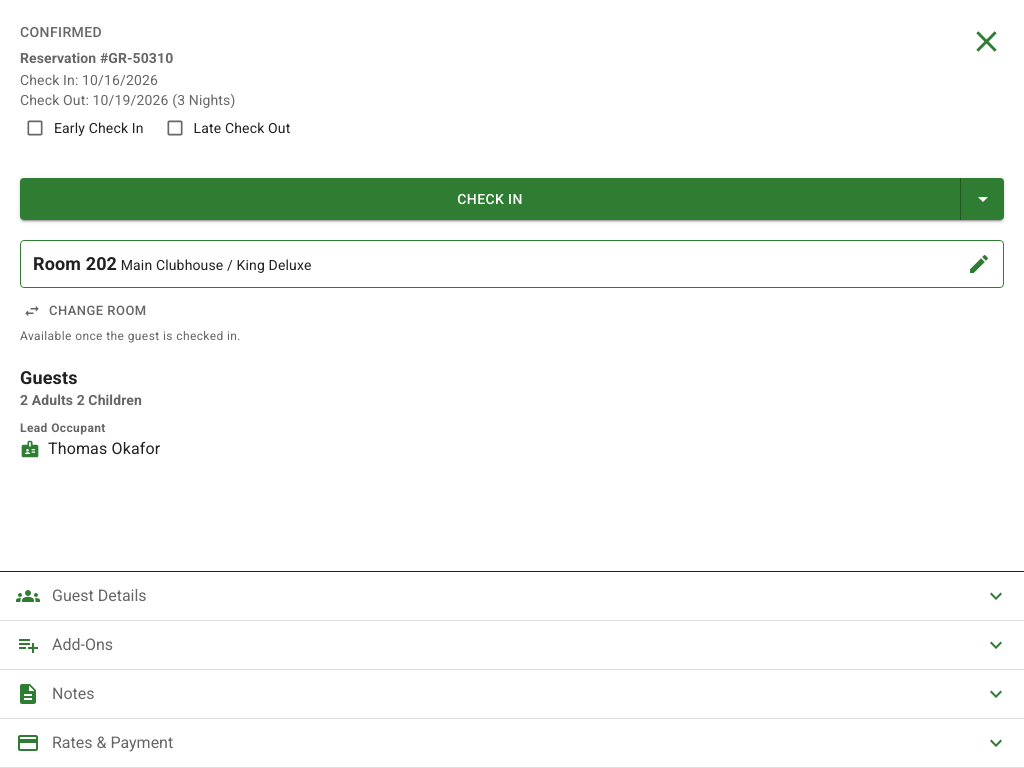
Test: Add Another Room › adds an unassigned room: the details then show two rooms and the schedule is updated
This screenshot has width=1024, height=768.
Click the button named "More reservation actions".
click(983, 199)  # box 961,178 -> 1004,220
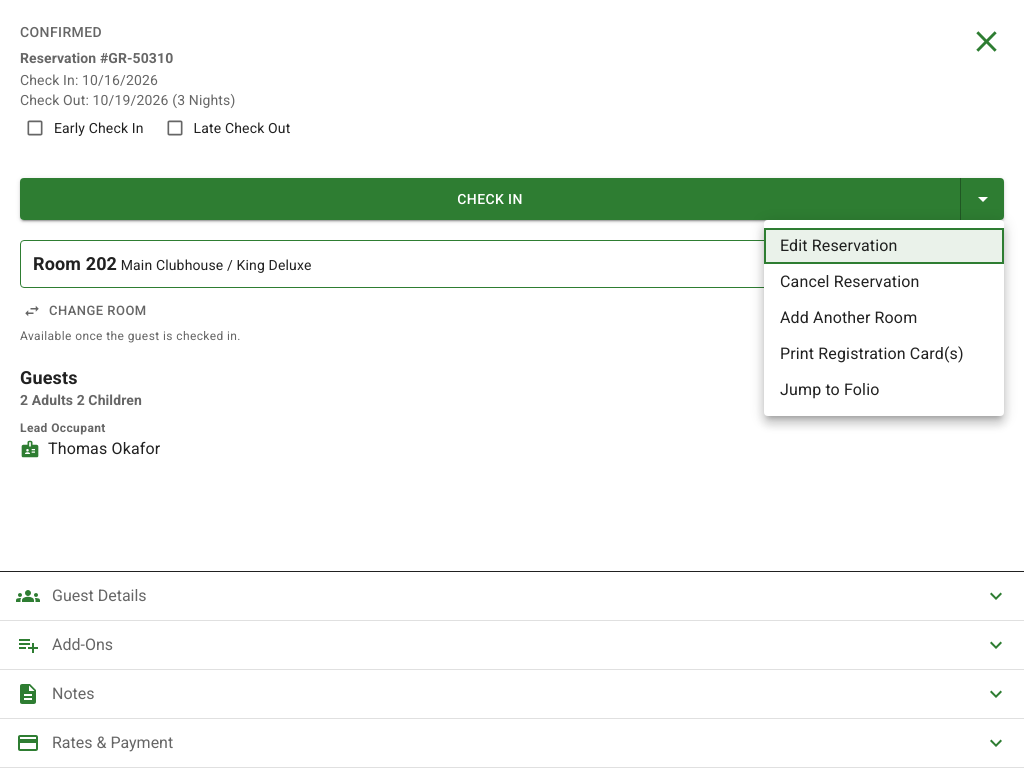
Click the menu item "Add Another Room".
click(849, 318)  # box 780,308 -> 917,327
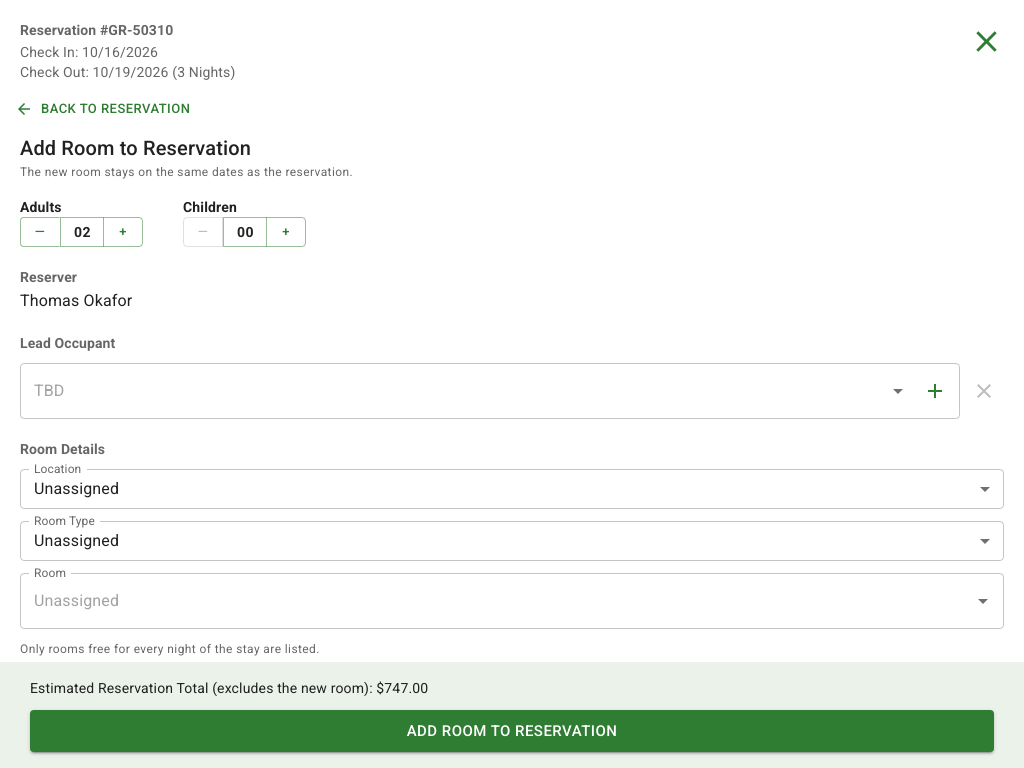
Click the button "Add Room to Reservation".
click(512, 731)  # box 30,710 -> 994,752
(page scrolled)
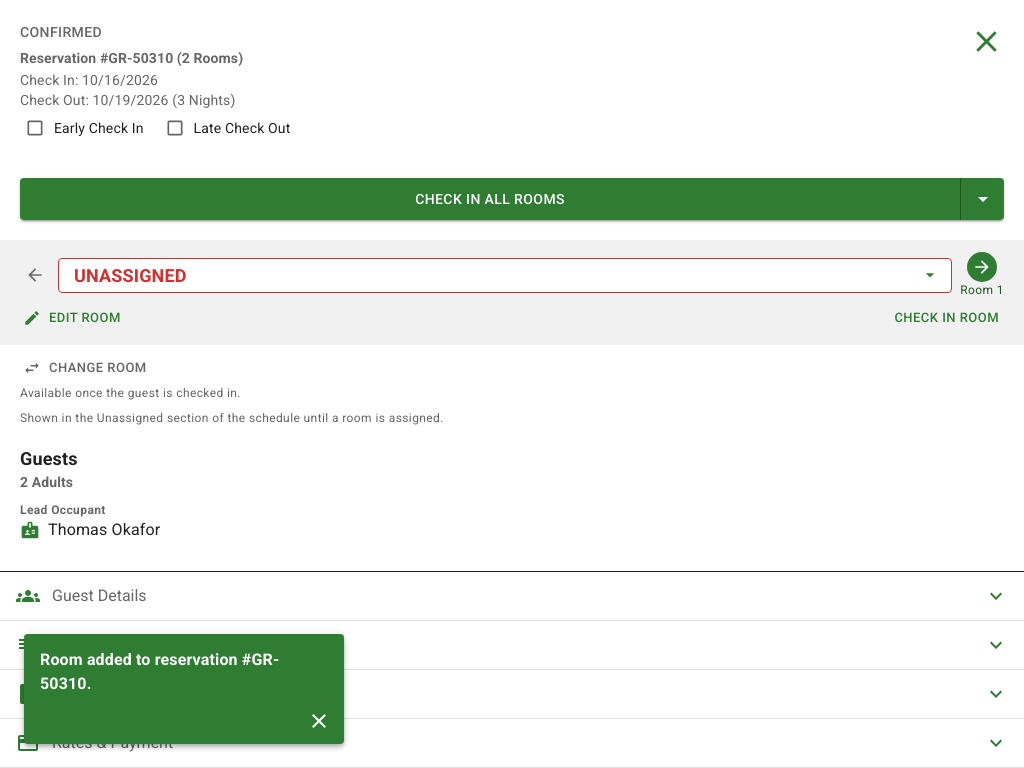
Expected: the button "Unassigned" is shown, 58,258 -> 952,293
Expected: the text with test id "url" shows "/schedule?res=rs-5&rr=rr-add-", 0,746 -> 226,765
